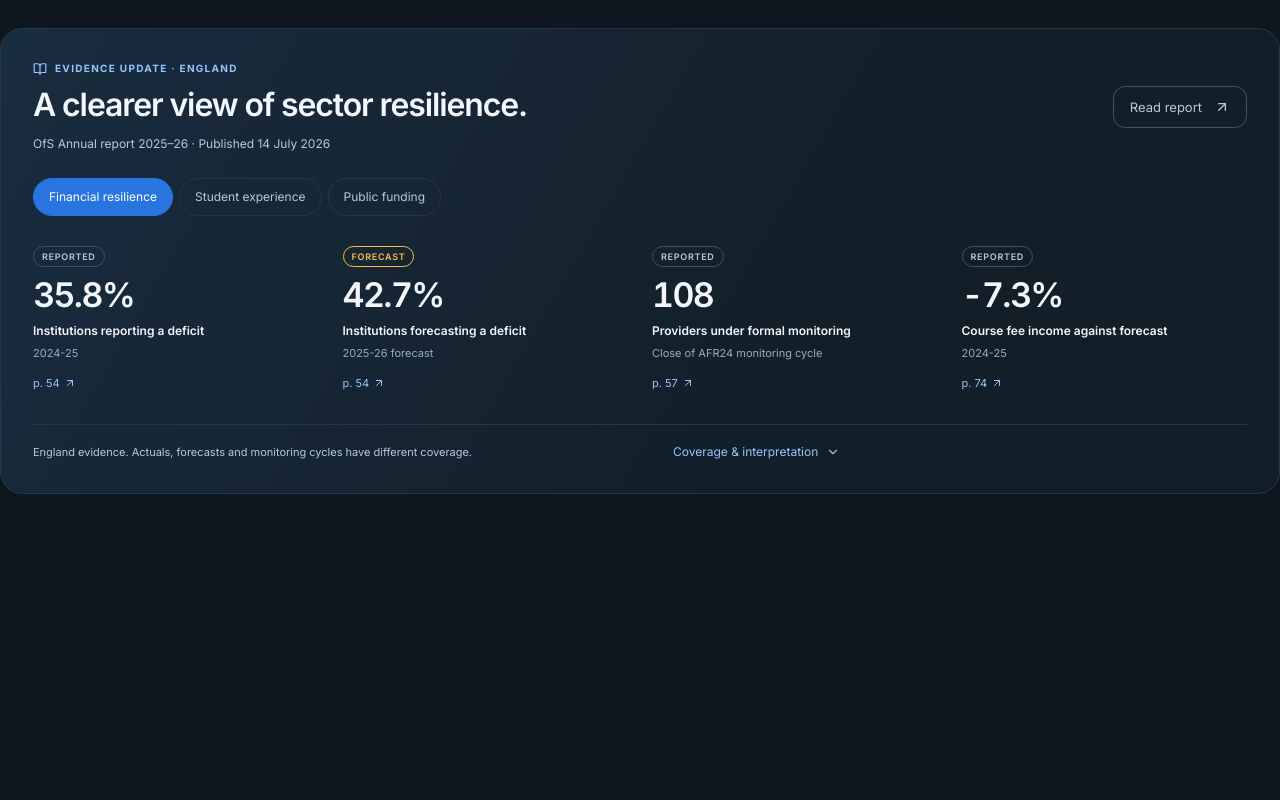
Test: annual report evidence panel › distinguishes forecasts and exposes linked source pages across topic switches
Check: the text "42.7%" is shown, box [342,274,444,315]
Check: the text "Forecast" is shown, box [342,246,414,267]
Click the button "Student experience": (250, 197) [179,178,322,216]
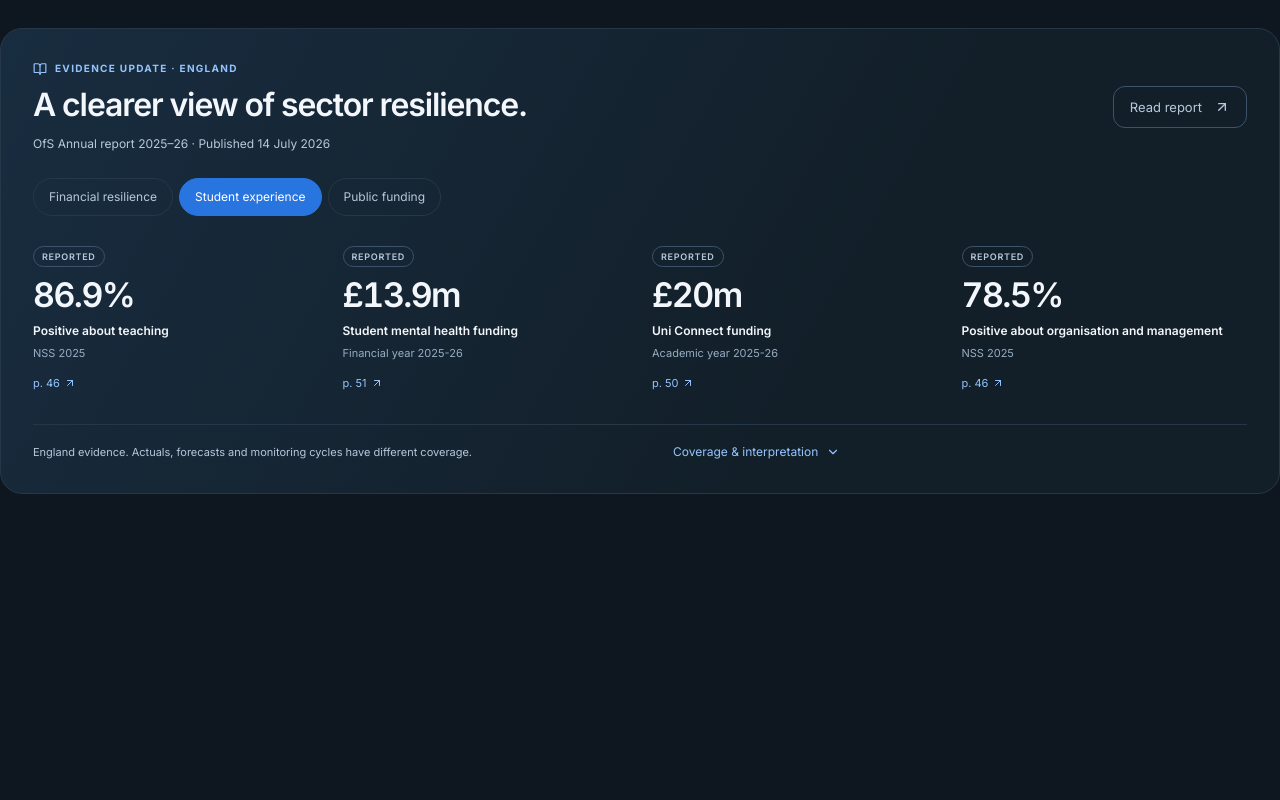
Check: the text "£13.9m" is shown, box [342,274,460,315]
Check: the text "Financial year 2025-26" is shown, box [342,346,463,360]
Click the button "Public funding": (384, 197) [328,178,441,216]
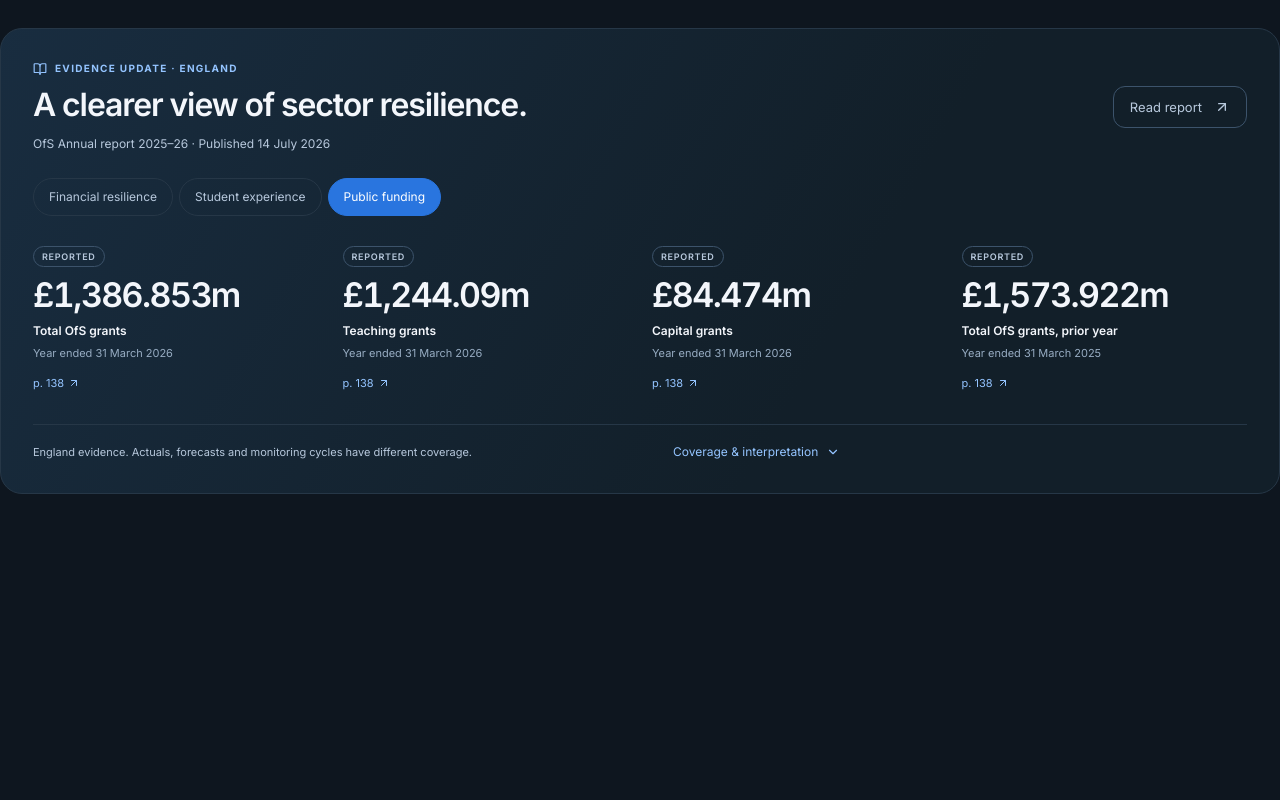
Check: the text "£1,386.853m" is shown, box [33,274,240,315]
Click the heading "Coverage & interpretation": (757, 451) [673,444,840,459]
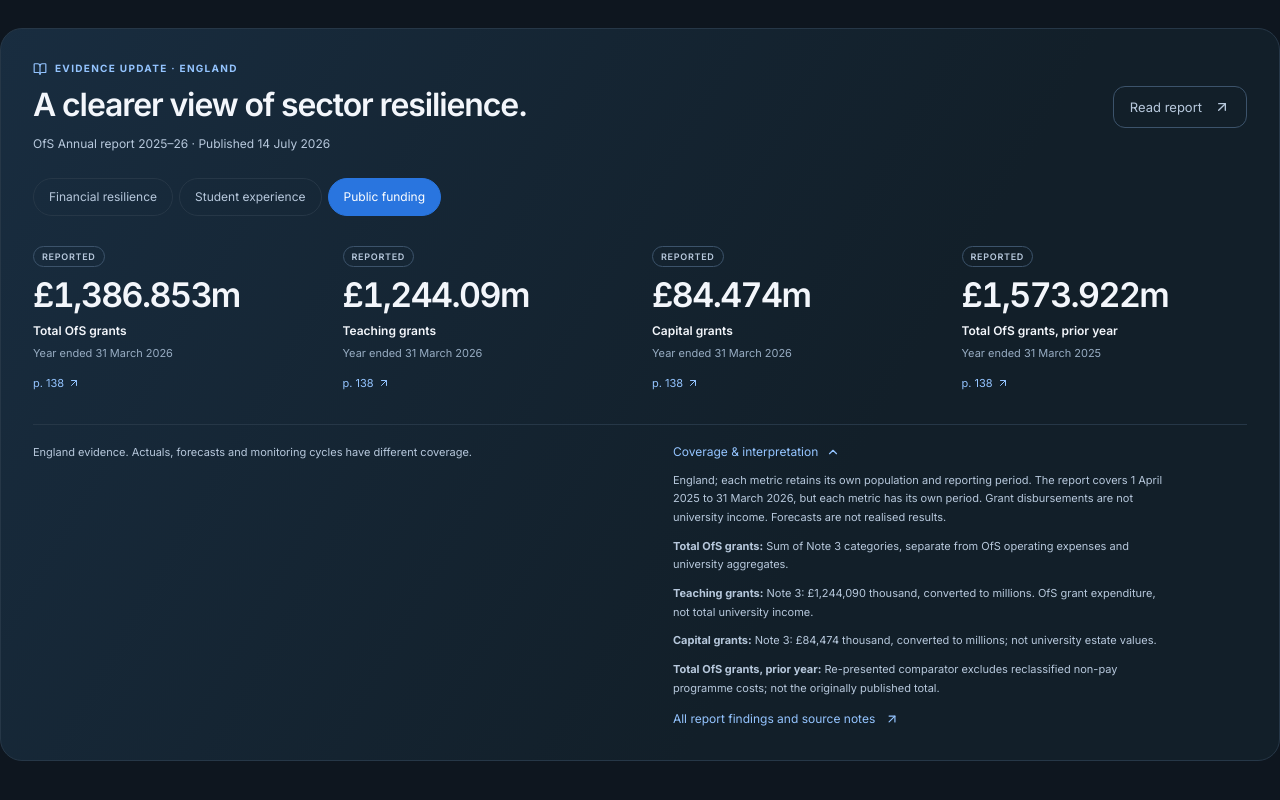
Check: the text "Re-presented comparator" is shown, box [673,662,1117,695]
